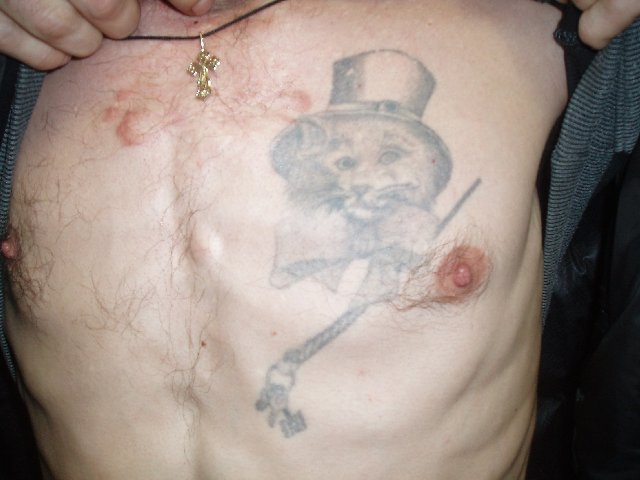tatu8_kot: (253, 40, 493, 438)
